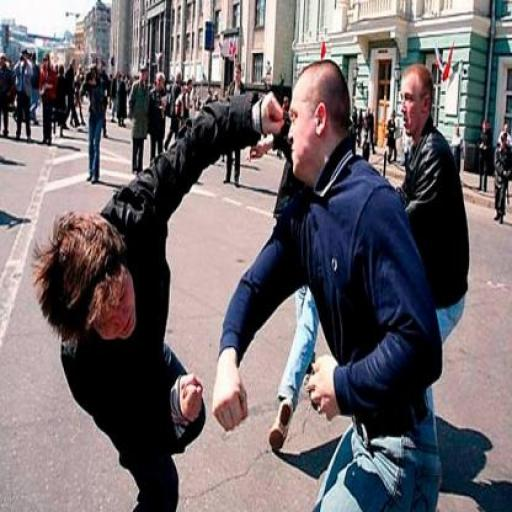Fighting: (34, 57, 445, 512)
